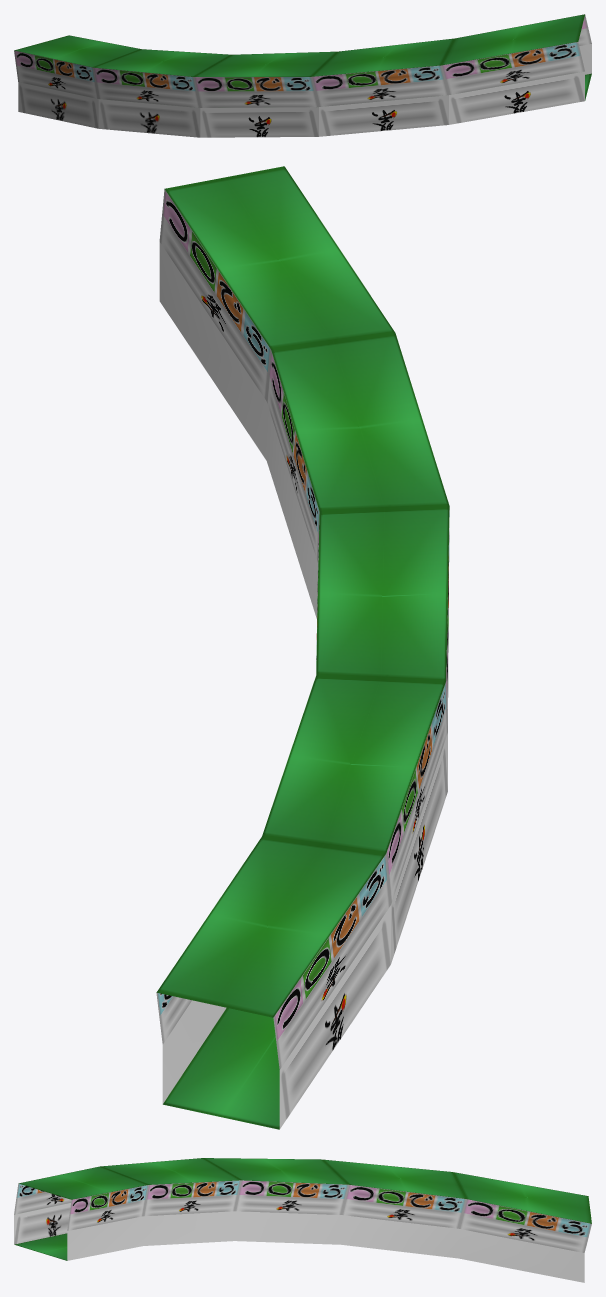
Rendered from CourseSummer_Wall_R_10.fbx.
3 renders of one model, top to bottom at view 1: azimuth 30°, elevation 25°; view 2: azimuth 150°, elevation 25°; view 3: azimuth 270°, elevation 25°, orthographic. The views are drawn at different scales.
Visible parts, largest first — view 1: polySurface102; view 2: polySurface102; view 3: polySurface102.
Boxes of the visible parts, bbox=[...] form: polySurface102: bbox=[14, 14, 591, 137]; polySurface102: bbox=[156, 166, 449, 1129]; polySurface102: bbox=[14, 1158, 591, 1282].
Bounding box in the file's own units: 11.15 × 6.98 × 17.58.
1 material, 1 textured.
